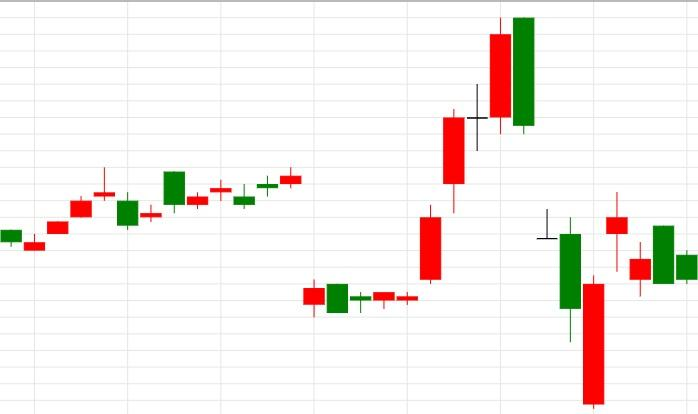bearish_engulfing_fall: (396, 18, 535, 305)
evening_star_fall: (24, 166, 138, 252)
